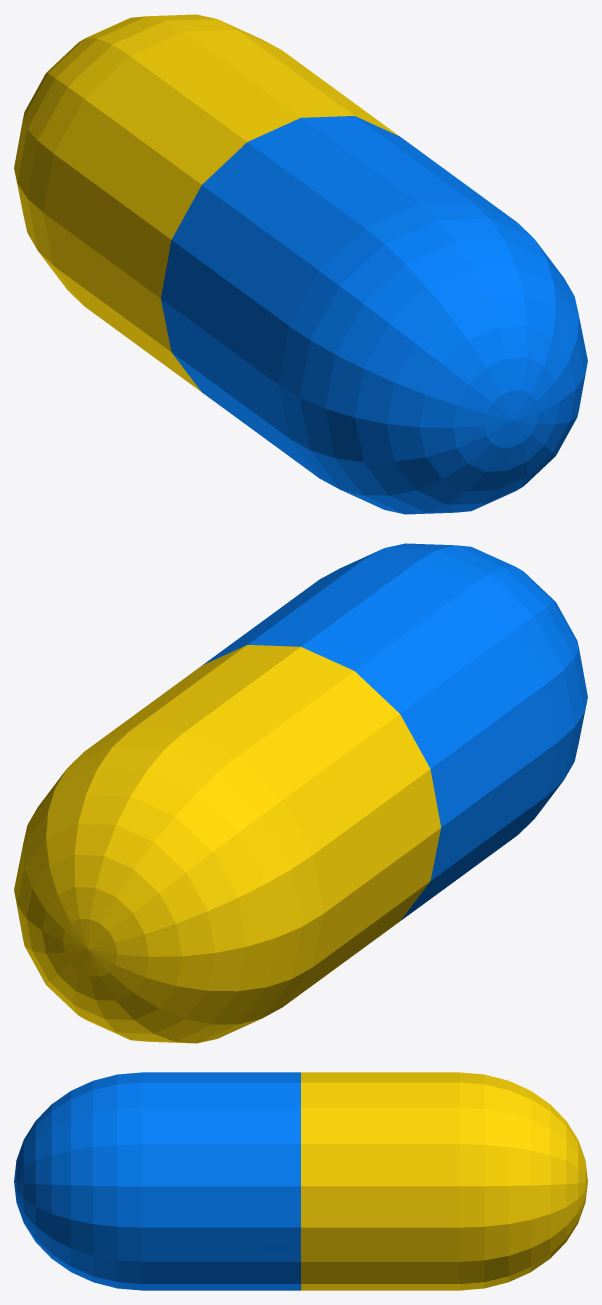
3 views of the same model, one above another, from view 1: azimuth 30°, elevation 25°; view 2: azimuth 150°, elevation 25°; view 3: azimuth 270°, elevation 25° (orthographic). The views are drawn at different scales.
Visible parts, largest first — view 1: Sphere; view 2: Sphere; view 3: Sphere.
Boxes of the visible parts, x1,y1,x2,y2 form: Sphere: (14,14,587,514); Sphere: (14,543,587,1043); Sphere: (14,1072,587,1290).
Size of the model in its own units: 2 by 2 by 5.26.
Materials: 1 (1 with a texture image).
